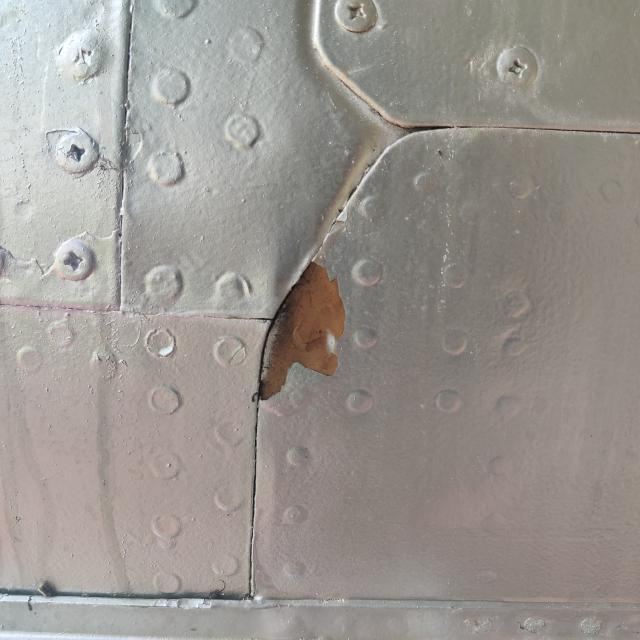Paint-off: (260, 262, 346, 400)
